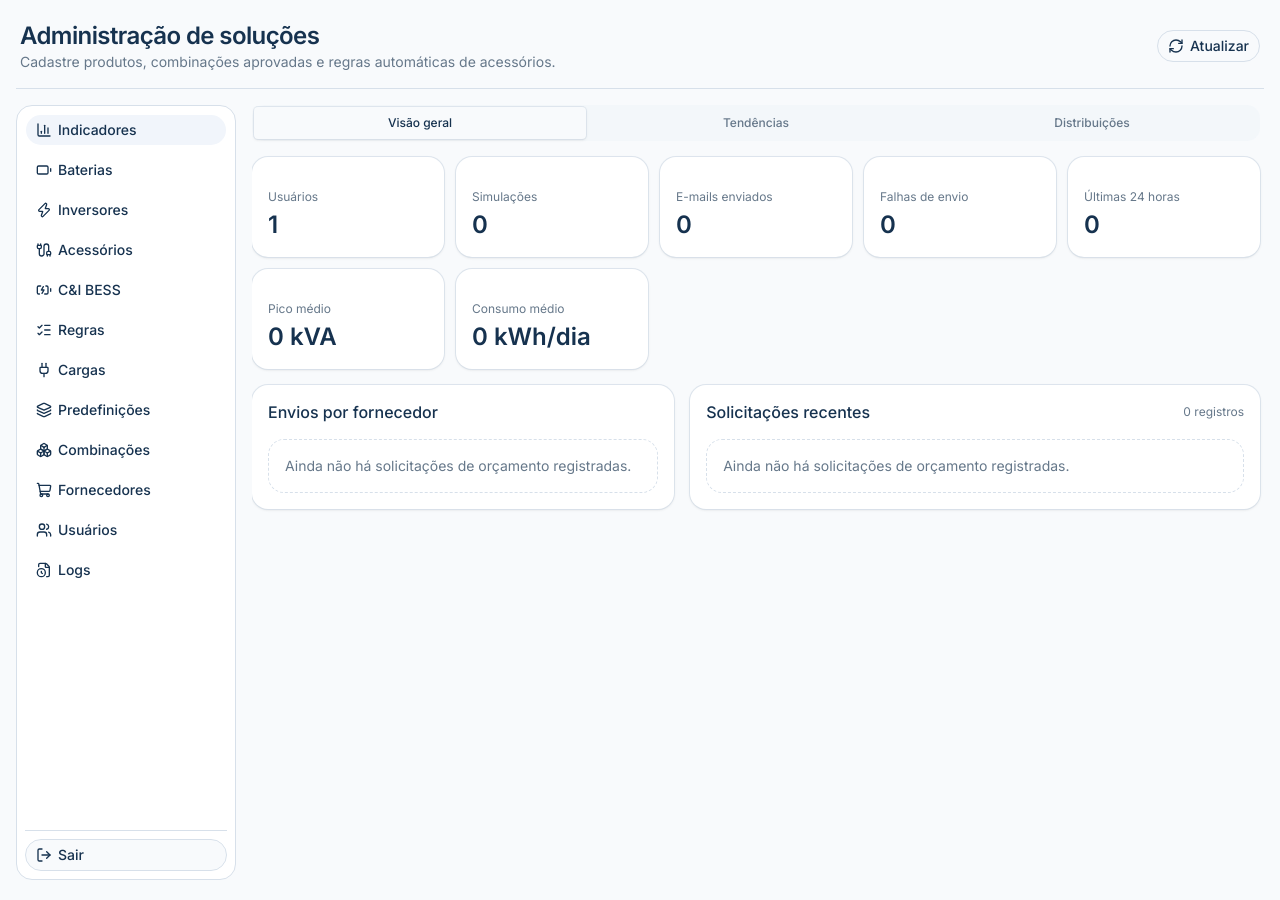
Test: AdminPanel: removing a row › deletes a battery and records the activity log
Click the button "Baterias": (126, 170) [25,154,227,186]
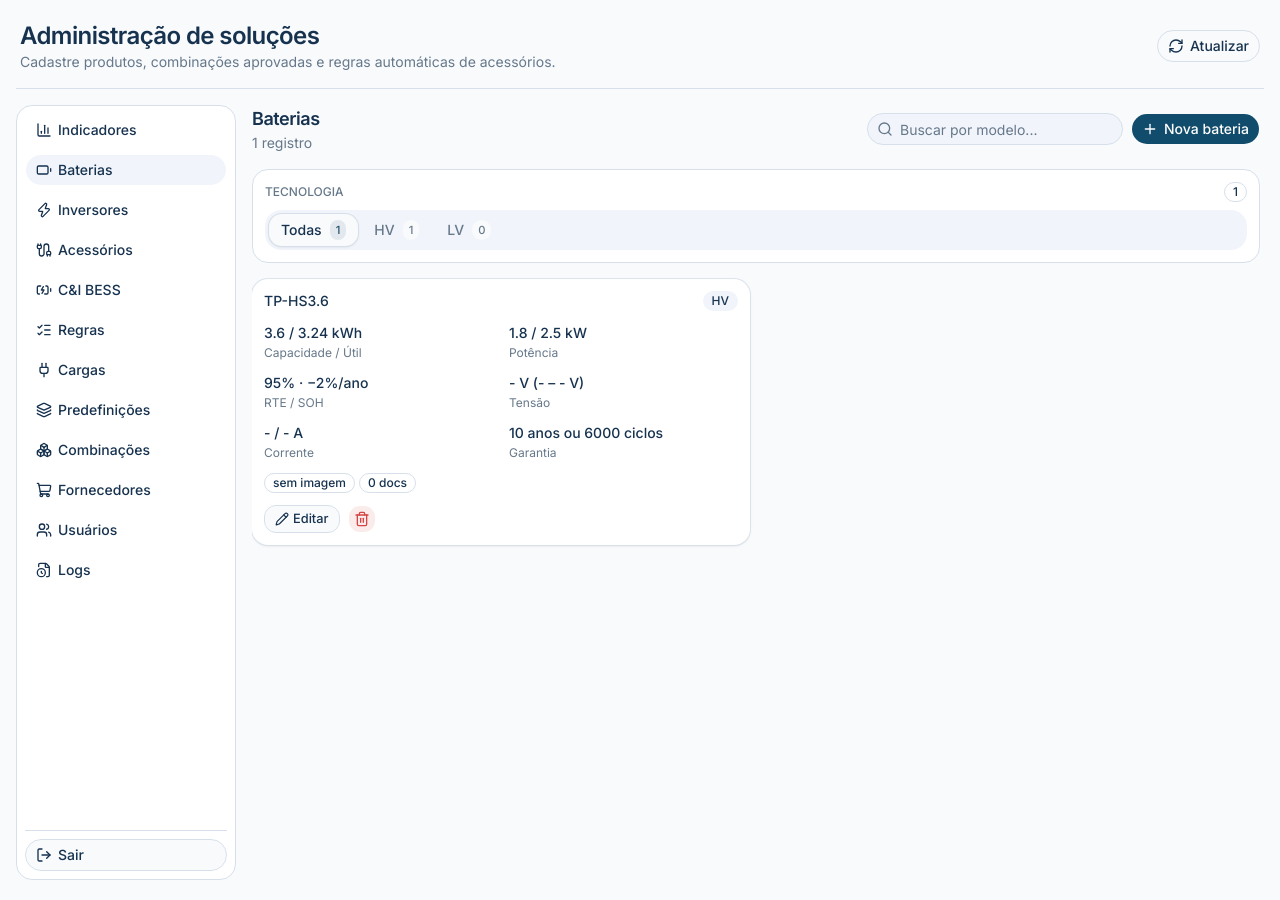
Expected: the text "TP-HS3.6" is shown, [264,291,329,310]
Click the button named "Remover TP-HS3.6": (362, 519) [348,505,376,533]
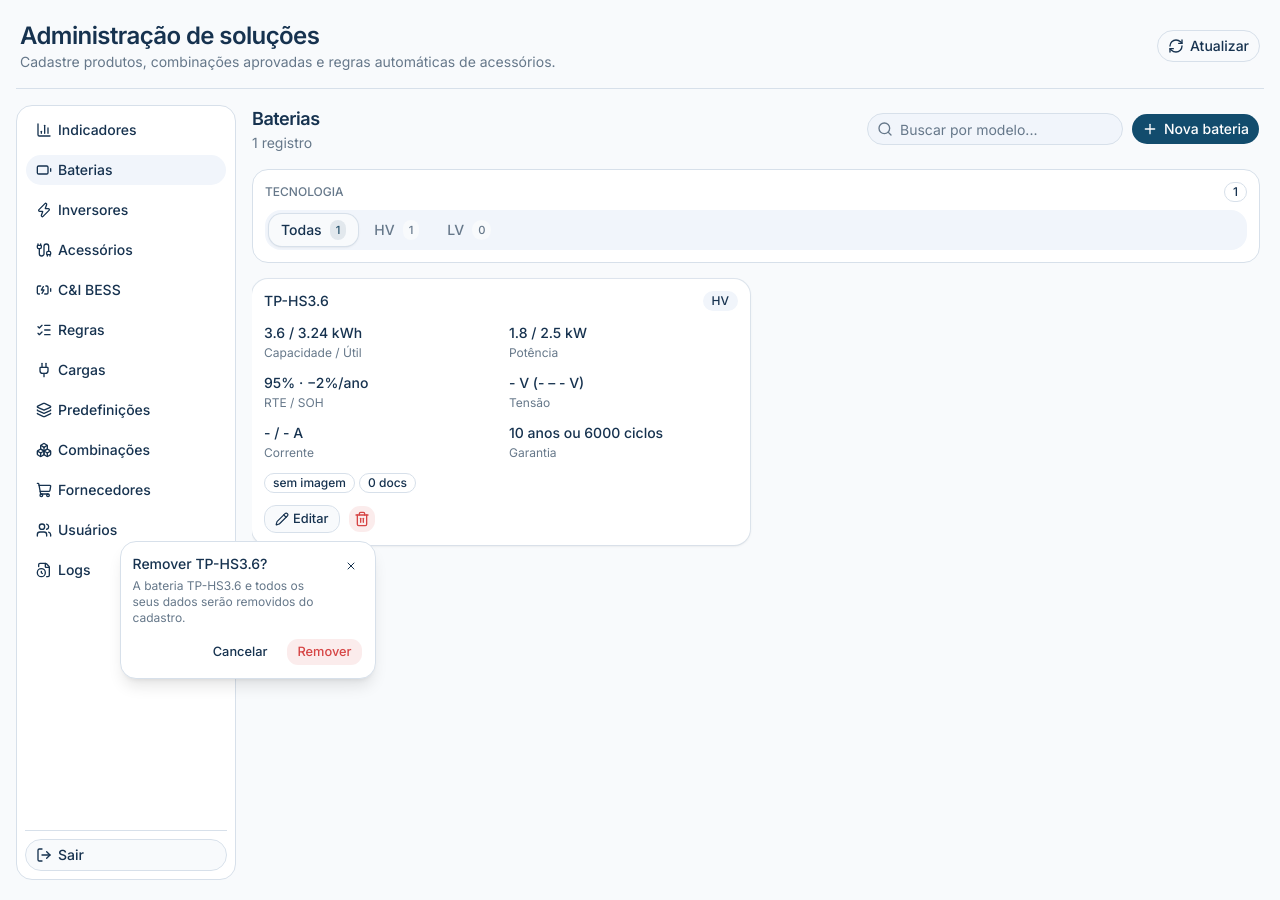
Click the button "Remover": (324, 652) [286,638,362,666]
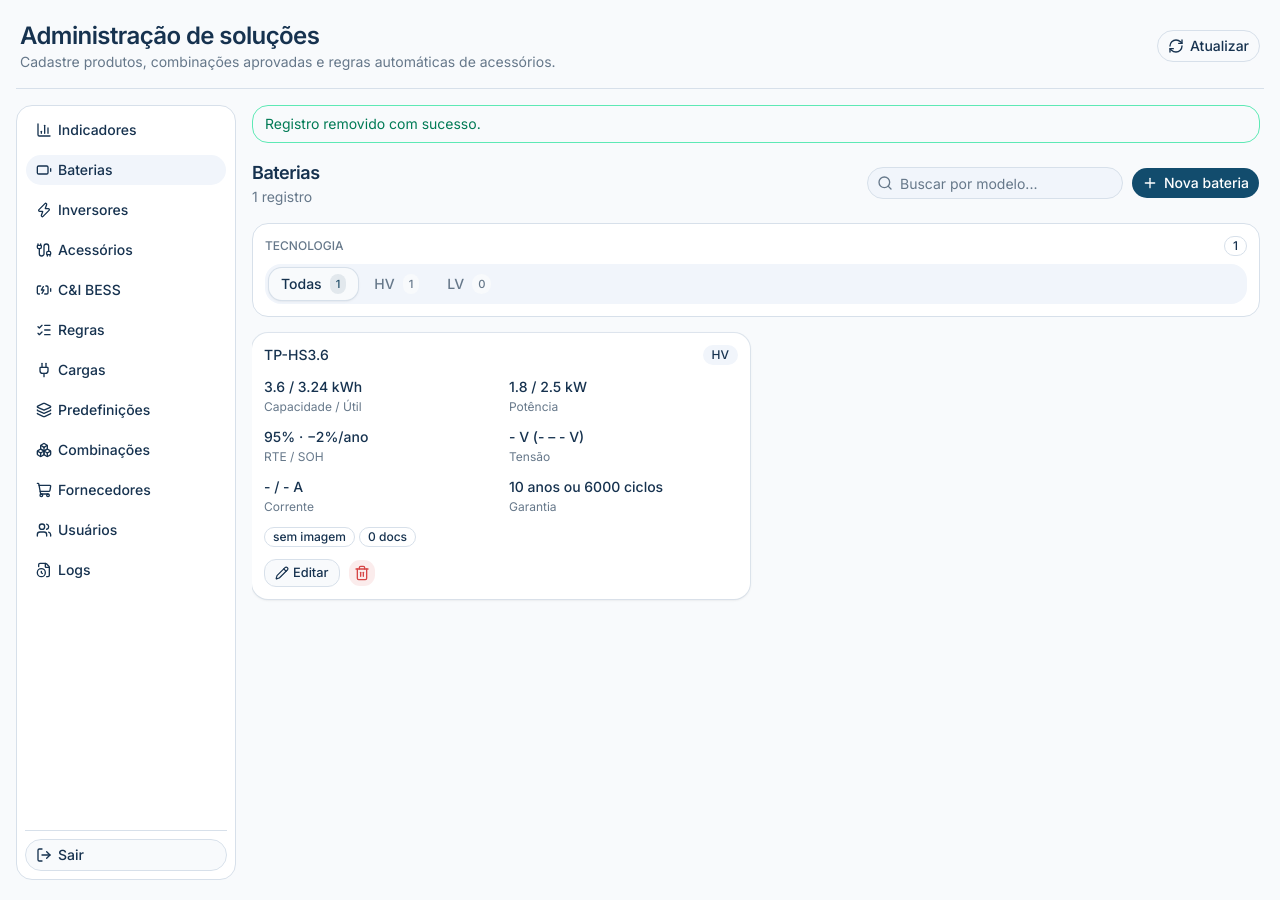
Expected: the message reads "Registro removido com sucesso.", [265,115,481,132]
